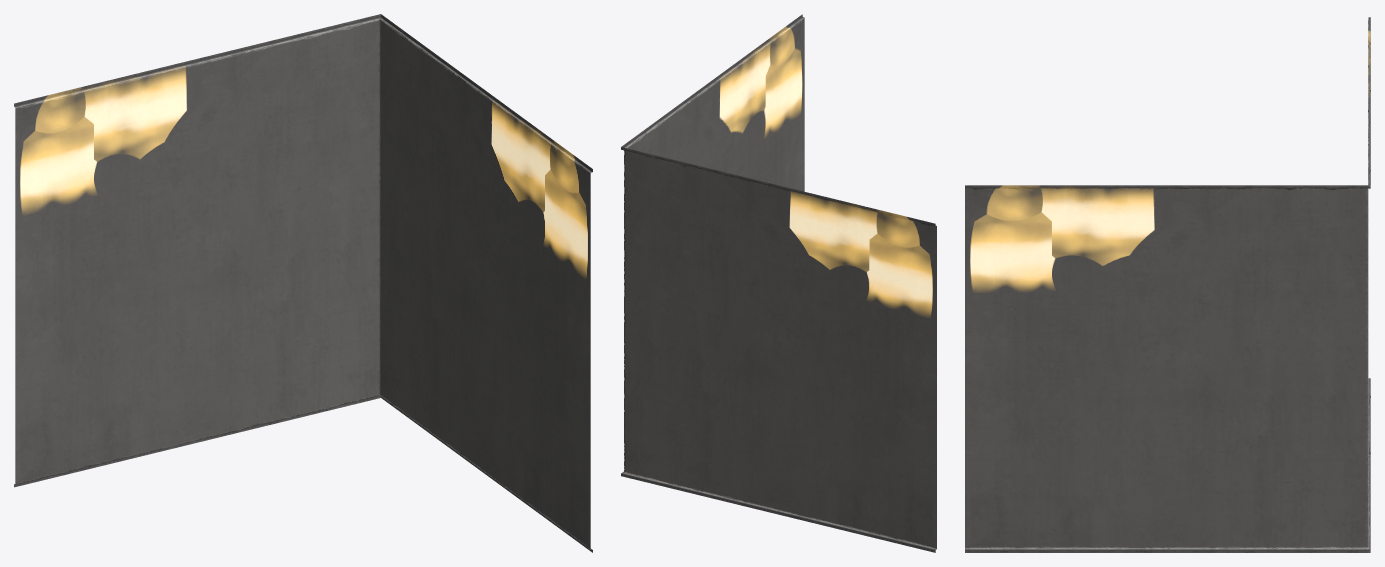
Rendered from SM_Sewer_Wall_Concrete_01d.fbx.
3 views of the same model, side by side, from view 1: azimuth 30°, elevation 25°; view 2: azimuth 150°, elevation 25°; view 3: azimuth 270°, elevation 25° (orthographic). The views are drawn at different scales.
Visible parts, largest first — view 1: SM_Sewer_Wall_Concrete_01d_LOD0; view 2: SM_Sewer_Wall_Concrete_01d_LOD0; view 3: SM_Sewer_Wall_Concrete_01d_LOD0.
Boxes of the visible parts, left/top/right/bottom form: SM_Sewer_Wall_Concrete_01d_LOD0: left=14, top=14, right=592, bottom=552; SM_Sewer_Wall_Concrete_01d_LOD0: left=621, top=14, right=936, bottom=552; SM_Sewer_Wall_Concrete_01d_LOD0: left=965, top=17, right=1370, bottom=552.
Bounding box in the file's own units: 200 × 200 × 200.
